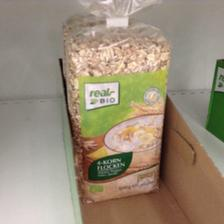Cerealien: (62, 22, 174, 202)
